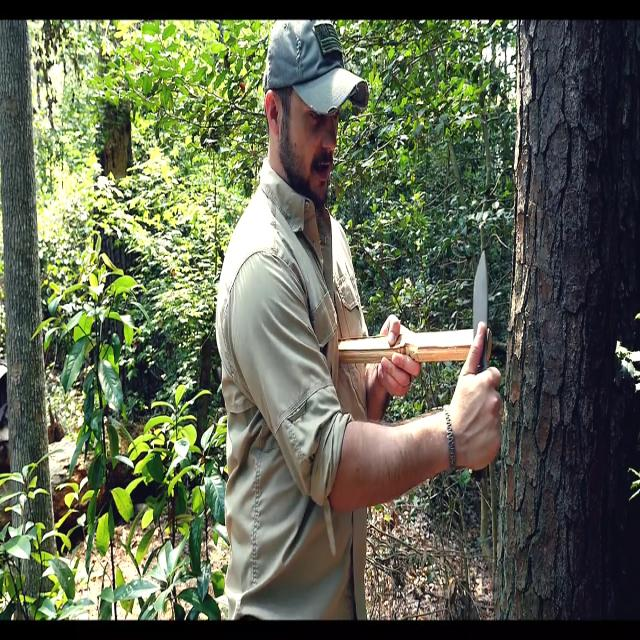knife: (473, 244, 492, 377)
